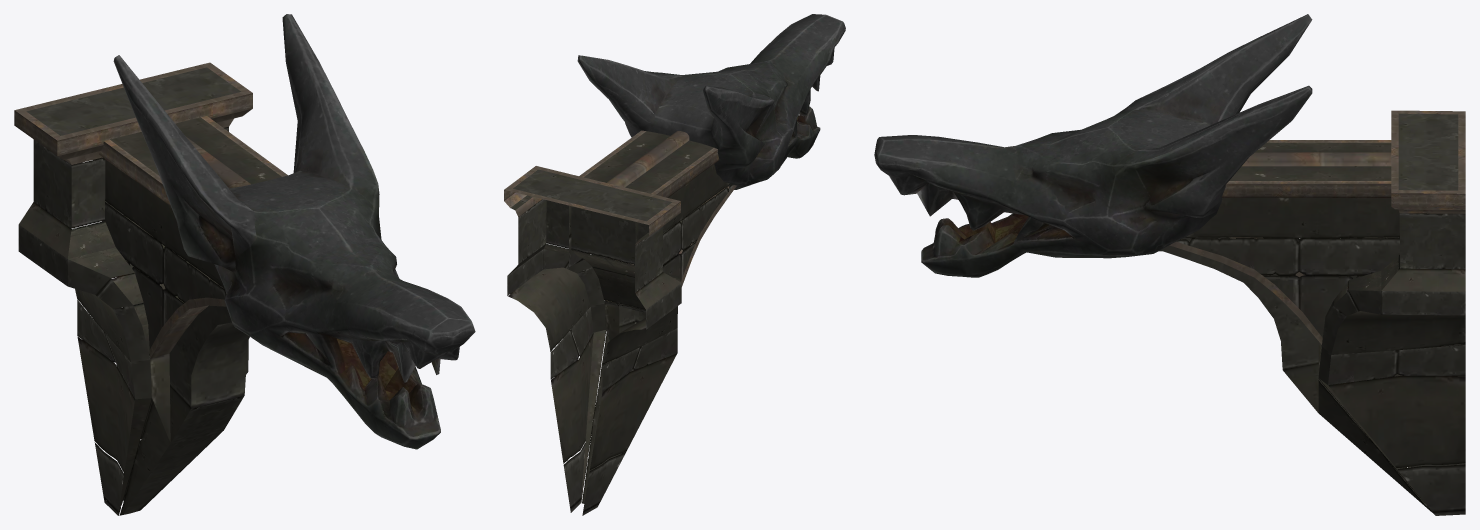
3 renders of one model, left to right at view 1: azimuth 30°, elevation 25°; view 2: azimuth 150°, elevation 25°; view 3: azimuth 270°, elevation 25°, orthographic. The views are drawn at different scales.
Parts seen in each view (by area): view 1: SM_Gargoyle_01_v1_LOD0; view 2: SM_Gargoyle_01_v1_LOD0; view 3: SM_Gargoyle_01_v1_LOD0.
Boxes of the visible parts, <box> form: SM_Gargoyle_01_v1_LOD0: <box>14,14,475,515</box>; SM_Gargoyle_01_v1_LOD0: <box>504,14,845,515</box>; SM_Gargoyle_01_v1_LOD0: <box>874,14,1465,515</box>.
Bounding box in the file's own units: 1 × 2.6 × 3.03.
2 materials, 2 textured.
